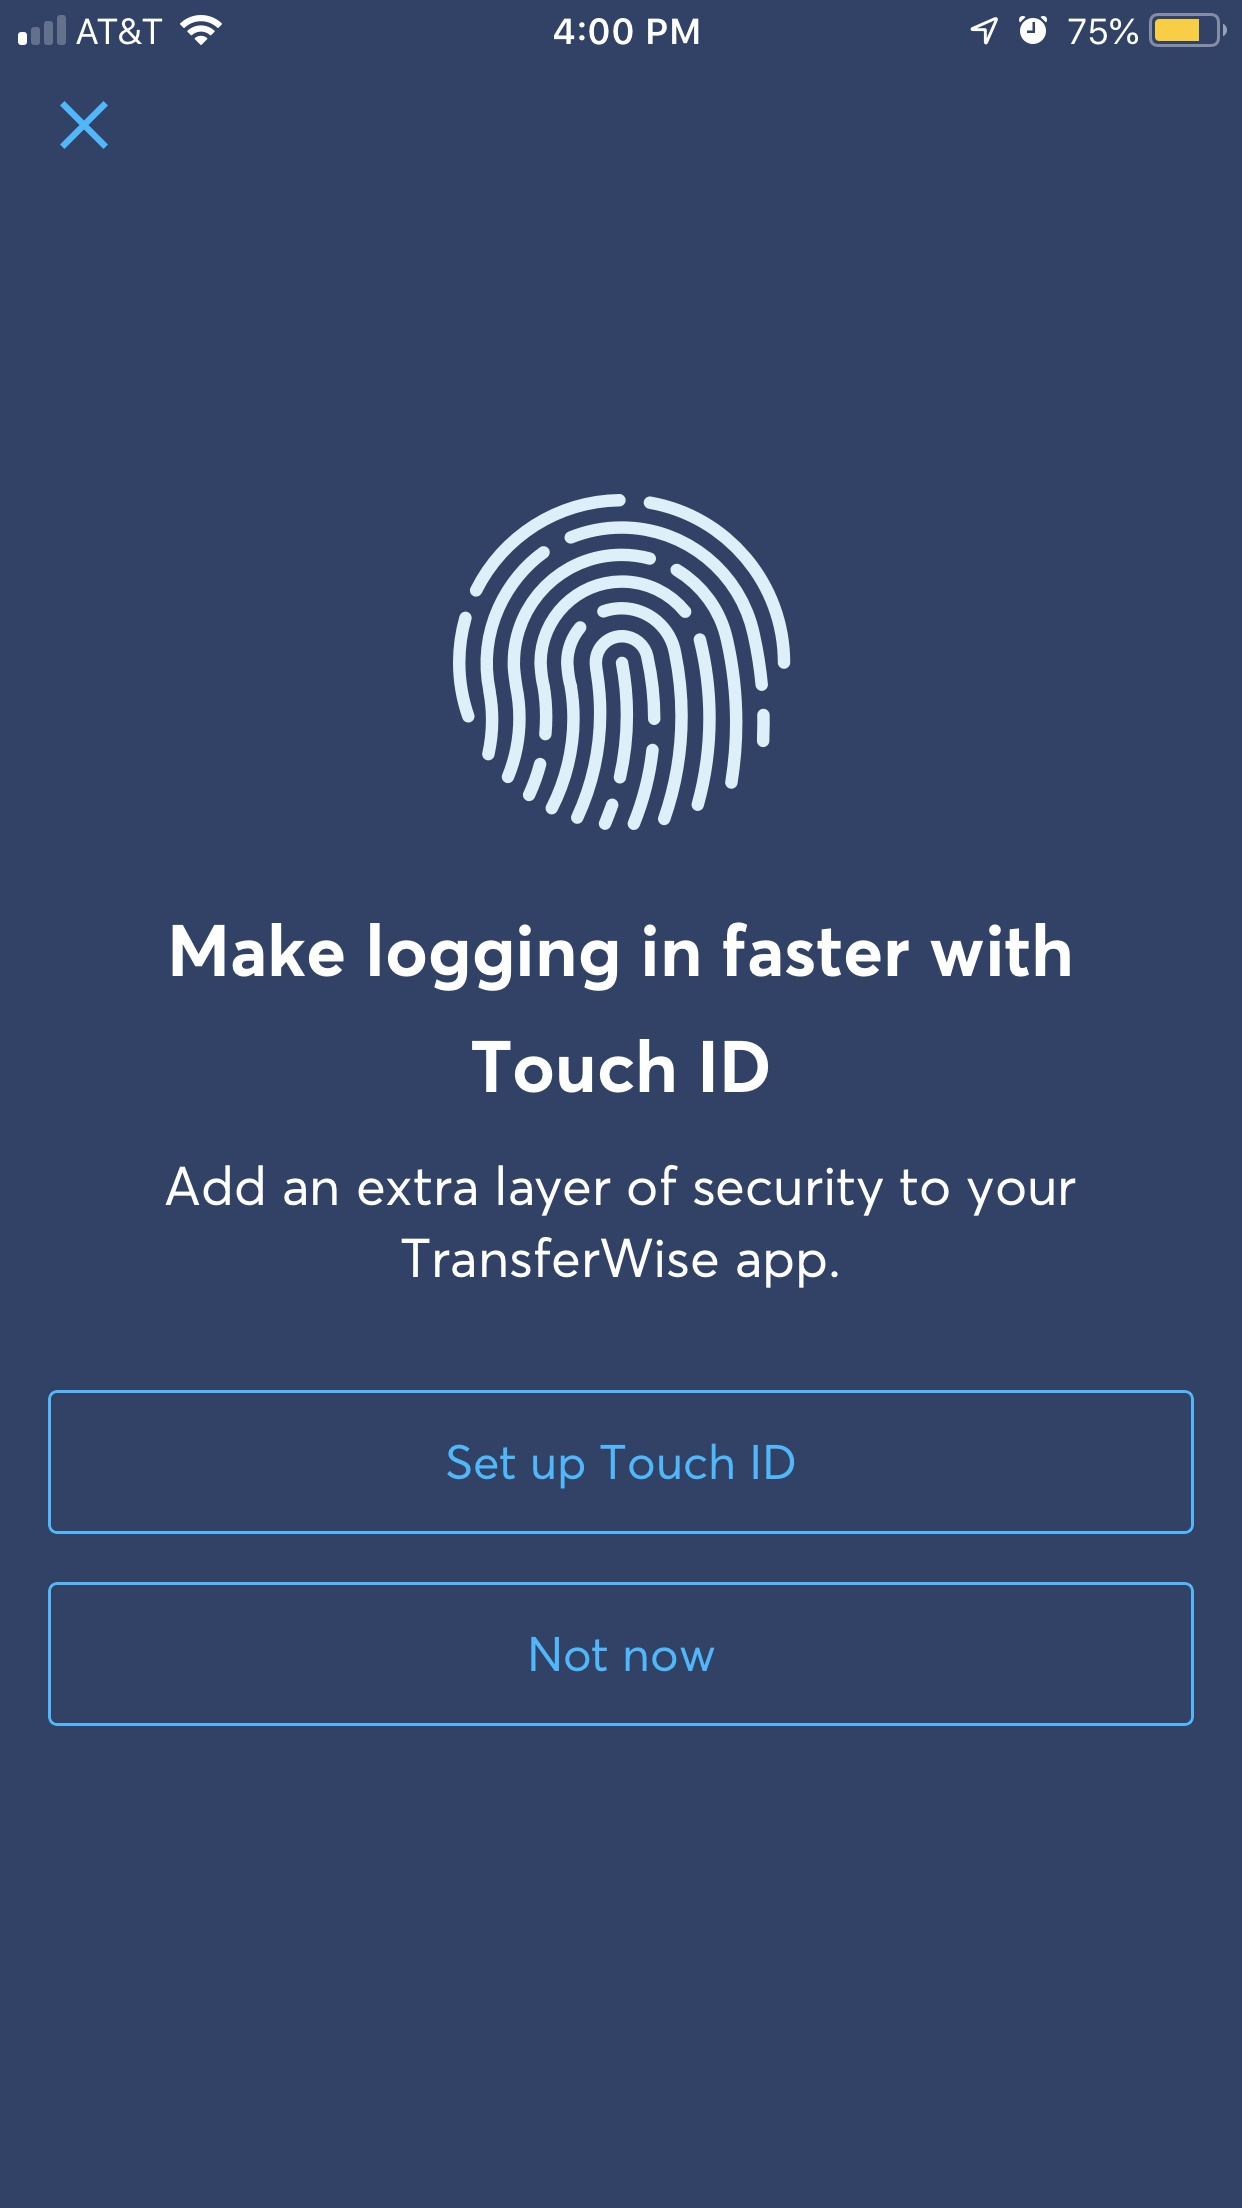Icon: (61, 102, 111, 152)
Image: (452, 494, 792, 833)
Text: (171, 922, 1071, 1093), (165, 1165, 1077, 1291)
TextButton: (49, 1389, 1195, 1535), (49, 1582, 1195, 1727)
UpperTaskBar: (2, 2, 1242, 49)
